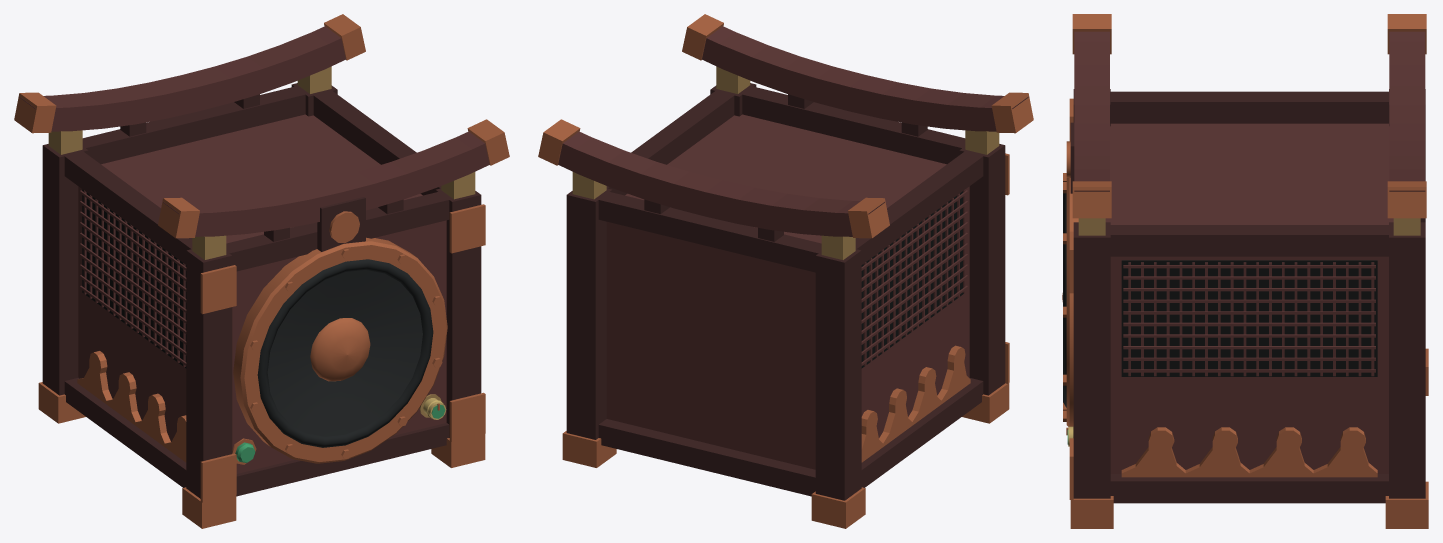
Rendered from EA-woofer.glb.
3 renders of one model, left to right at view 1: azimuth 30°, elevation 25°; view 2: azimuth 150°, elevation 25°; view 3: azimuth 270°, elevation 25°, orthographic. The views are drawn at different scales.
Parts seen in each view (by area): view 1: Cabinet, Woofer — cone, Torii beam back, Woofer — bezel ring, Torii beam front, Post front left, Side lattice left, Post back left, Front baffle, Rail top back, Post front right, Woofer — rubber surround (+26 smaller); view 2: Cabinet, Torii beam front, Torii beam back, Post back left, Post back right, Side lattice left, Post front left, Rail top back, Rail top front, Rail bottom back, Side lattice backing left, Rail top left (+14 smaller); view 3: Cabinet, Side lattice backing right, Side lattice right, Post front right, Post back right, Rail top left, Rail top right, Rail bottom right, Wave relief right, Torii beam back, Torii beam front, Woofer — bezel ring (+9 smaller).
Boxes of the visible parts, bbox=[...] form: Cabinet: bbox=[78, 114, 422, 441]; Woofer — cone: bbox=[267, 270, 422, 436]; Torii beam back: bbox=[19, 26, 345, 131]; Woofer — bezel ring: bbox=[233, 237, 447, 463]; Torii beam front: bbox=[163, 131, 489, 236]; Post front left: bbox=[186, 249, 232, 498]; Side lattice left: bbox=[79, 190, 186, 367]; Post back left: bbox=[42, 144, 88, 395]; Front baffle: bbox=[232, 220, 446, 473]; Rail top back: bbox=[82, 86, 305, 164]; Post front right: bbox=[435, 188, 481, 437]; Woofer — rubber surround: bbox=[257, 259, 433, 447]; Cabinet: bbox=[606, 114, 969, 469]; Torii beam front: bbox=[702, 26, 1028, 131]; Torii beam back: bbox=[558, 131, 884, 236]; Post back left: bbox=[815, 249, 861, 500]; Post back right: bbox=[566, 188, 612, 439]; Side lattice left: bbox=[861, 189, 968, 365]; Post front left: bbox=[959, 144, 1005, 395]; Rail top back: bbox=[598, 192, 821, 272]; Rail top front: bbox=[742, 86, 965, 164]; Rail bottom back: bbox=[598, 419, 815, 496]; Side lattice backing left: bbox=[861, 191, 963, 368]; Rail top left: bbox=[855, 151, 983, 264]; Cabinet: bbox=[1105, 123, 1393, 473]; Side lattice backing right: bbox=[1121, 260, 1377, 376]; Side lattice right: bbox=[1123, 262, 1375, 376]; Post front right: bbox=[1073, 222, 1110, 498]; Post back right: bbox=[1389, 222, 1425, 498]; Rail top left: bbox=[1110, 91, 1388, 123]; Rail top right: bbox=[1110, 225, 1388, 256]; Rail bottom right: bbox=[1110, 474, 1388, 503]; Wave relief right: bbox=[1121, 427, 1377, 477]; Torii beam back: bbox=[1389, 31, 1425, 191]; Torii beam front: bbox=[1074, 31, 1109, 191]; Woofer — bezel ring: bbox=[1066, 178, 1078, 426].
Size of the model in its own units: 0.5286 by 0.4868 by 0.4585.
